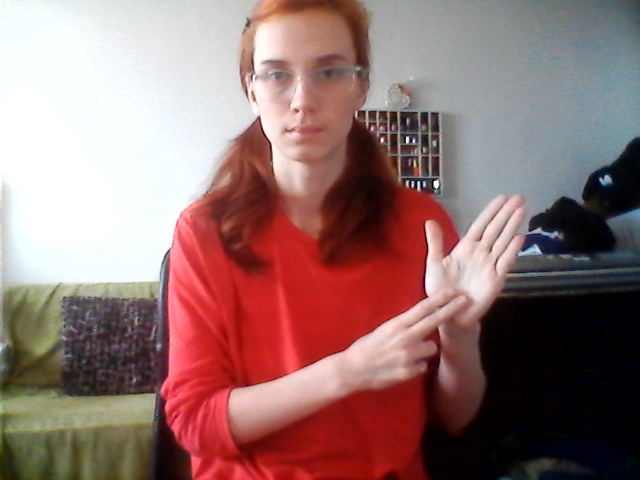n: (379, 185, 533, 396)
